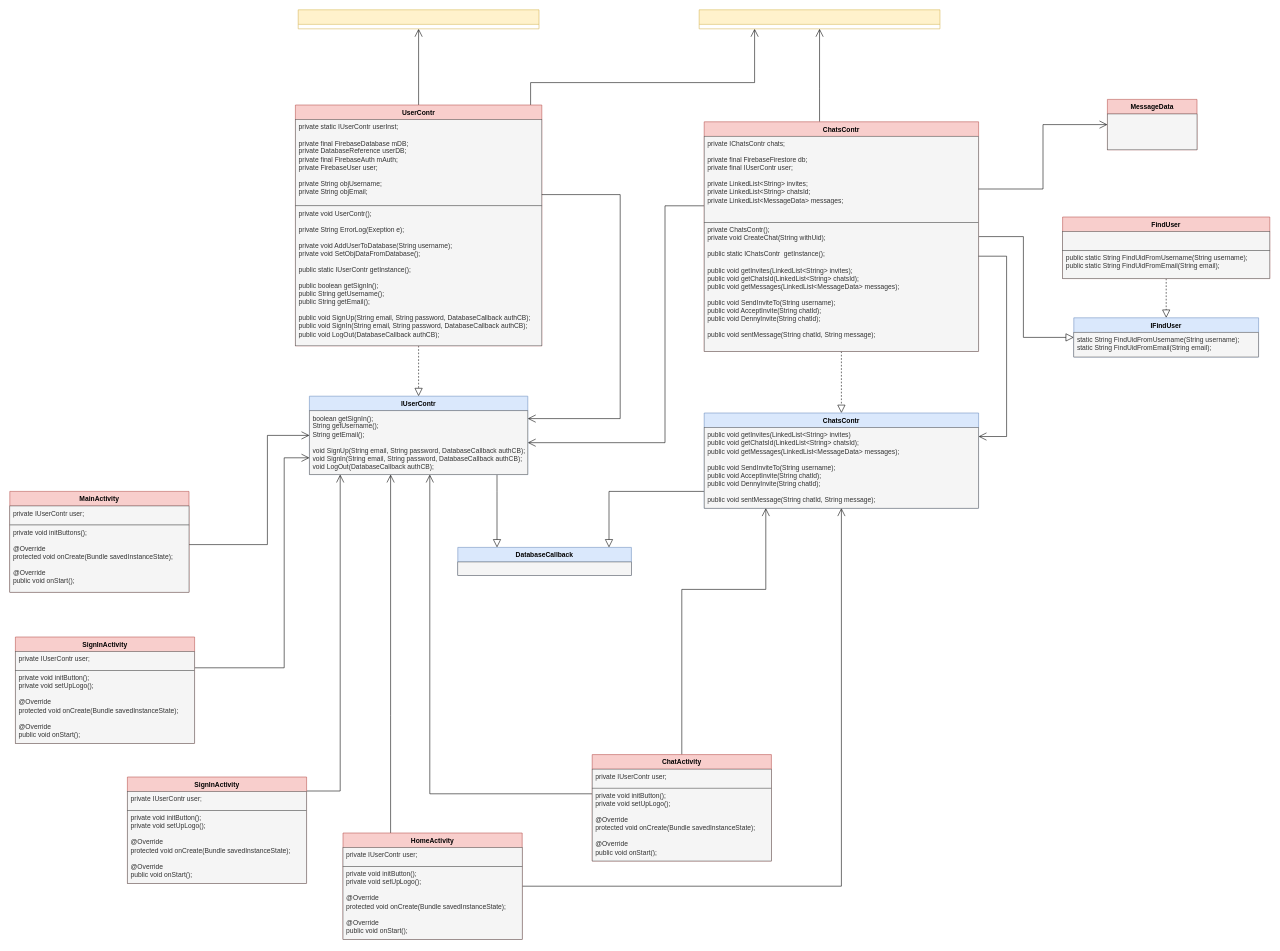
The diagram is 1280 pixels wide and 951 high, and some of its shapes have lost their labels. Here are the shapes that lost their labels. From the top down, the centre of each, then its label:
[418,19]: FirebaseAuth
[819,19]: FirebaseDatabase
[1152,131]: public String id; public String message; public String time;
[1166,241]: private static final FirebaseDatabase db;
[544,568]: void onCompose(boolean success, String ErrorLog);
